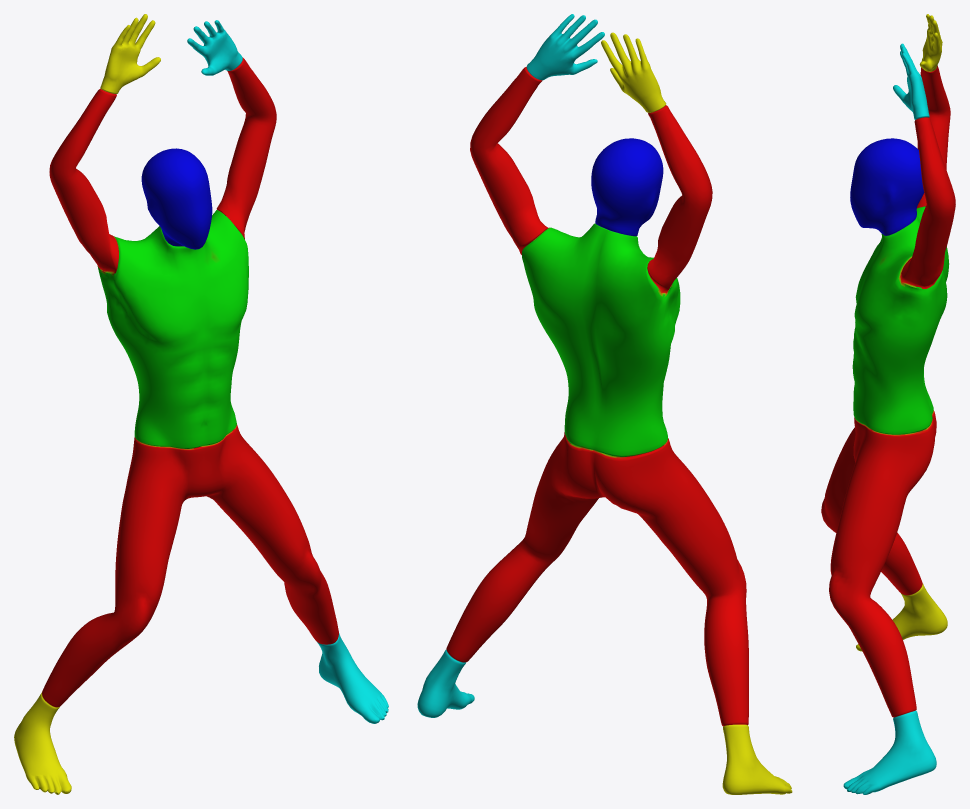
The model's file is JumpingJacks_WithoutRig.FBX.
3 views of the same model, side by side, from view 1: azimuth 30°, elevation 25°; view 2: azimuth 150°, elevation 25°; view 3: azimuth 270°, elevation 25° (orthographic). The views are drawn at different scales.
Visible parts, largest first — view 1: Mannequin_without_rig; view 2: Mannequin_without_rig; view 3: Mannequin_without_rig.
Boxes of the visible parts, x1,y1,x2,y2 form: Mannequin_without_rig: [14, 14, 388, 794]; Mannequin_without_rig: [417, 14, 792, 794]; Mannequin_without_rig: [821, 14, 955, 794].
Bounding box in the file's own units: 40.07 × 79.03 × 14.09.
